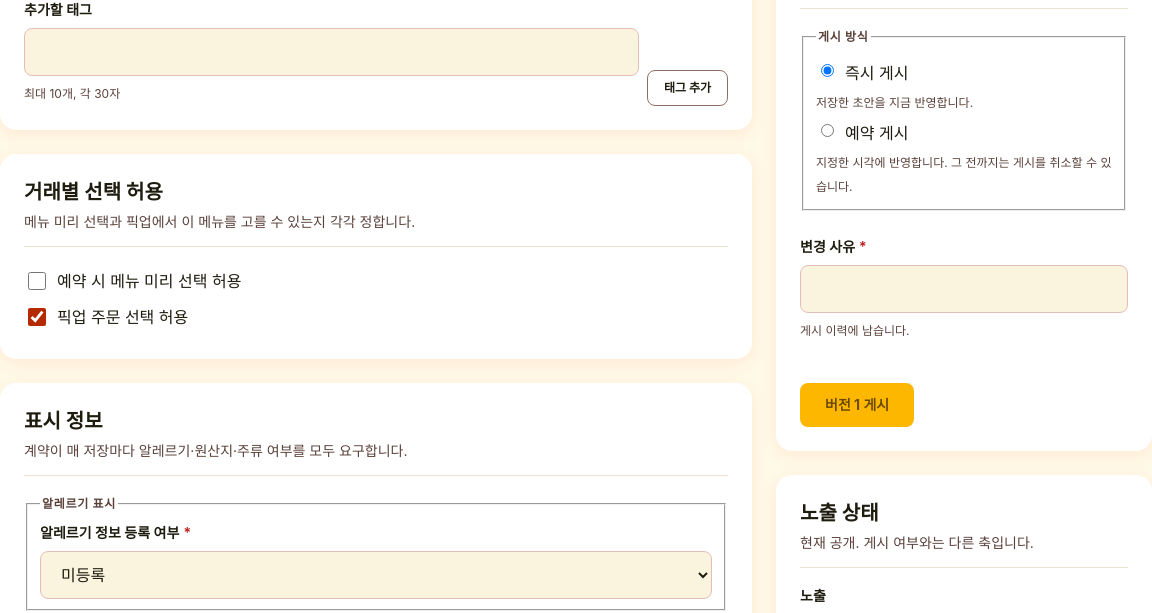
Test: 메뉴 편집 화면 › 메뉴 상태 전이 충돌은 서버 코드로 안내한다
(page scrolled)
In the field labelled "변경 사유": x=964, y=289 [800,265,1128,313], type "공개"
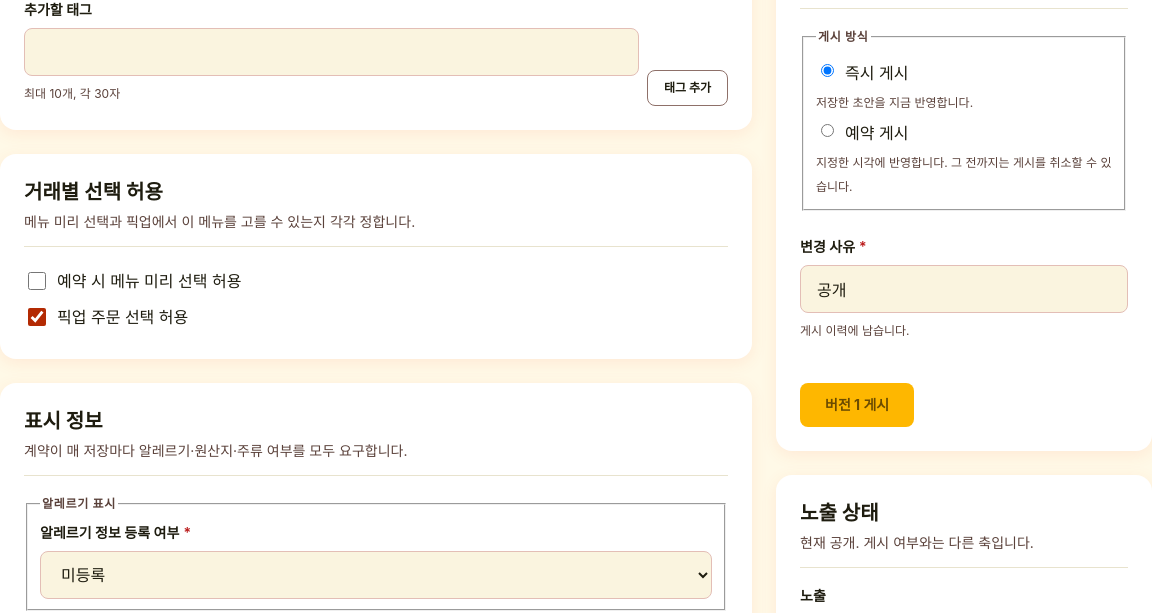
Click the button "버전 1 게시": x=857, y=405 [800,383,914,427]
(page scrolled)
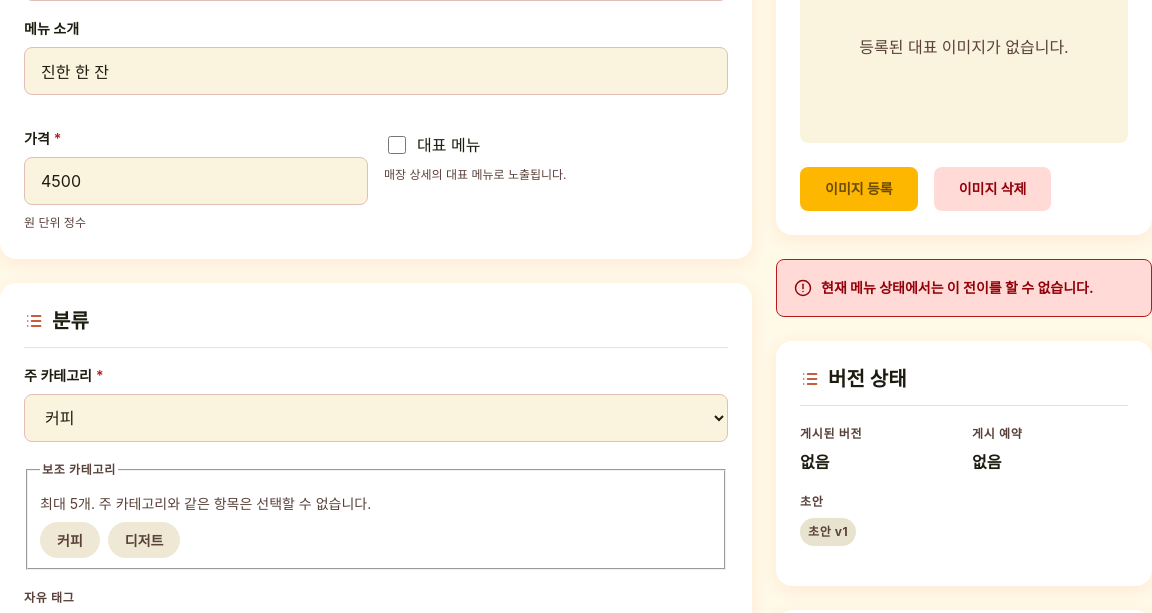
Result: the text "현재 메뉴 상태에서는 이 전이를 할 수 없습니다." is shown at [821,276,1135,300]
